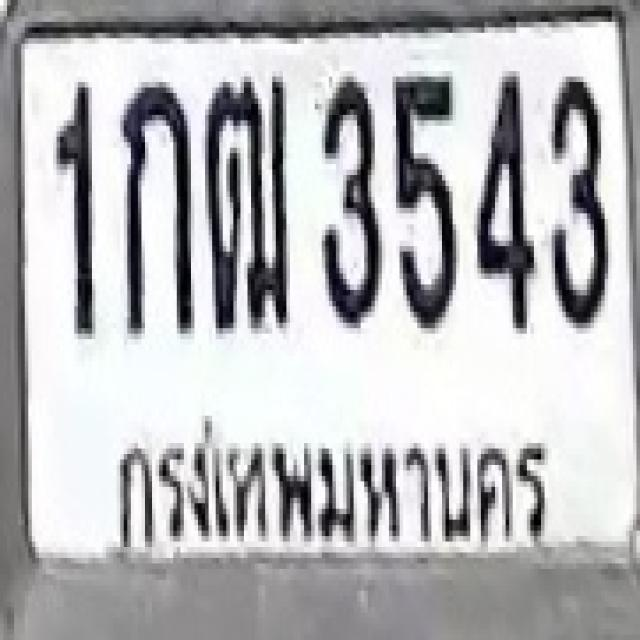-: (203, 74, 288, 331), (118, 80, 193, 336)
1: (53, 77, 92, 339)
3: (546, 71, 606, 323), (318, 74, 378, 325)
4: (474, 66, 534, 328)
5: (392, 71, 452, 328)
BKK: (94, 412, 566, 564)
